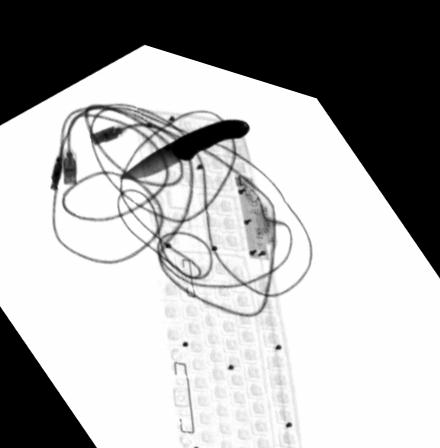Knife: (117, 103, 250, 172)
